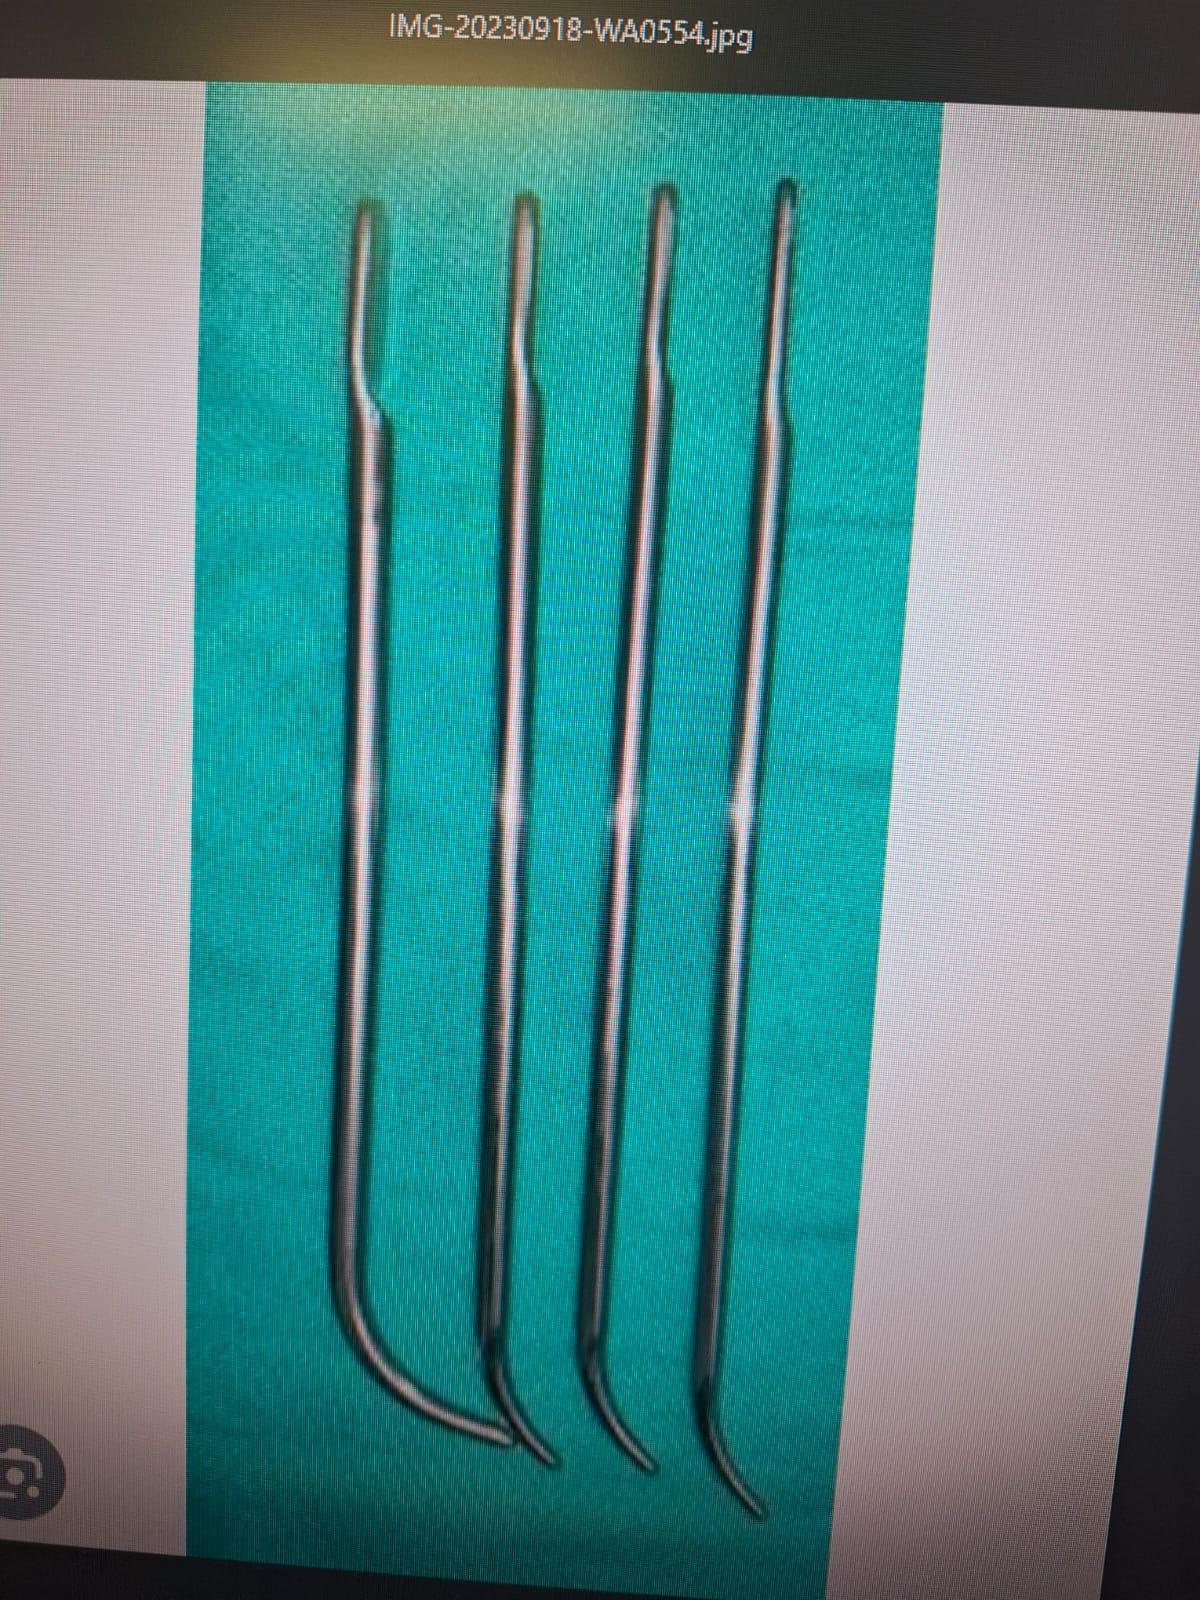Urethral Dilators: (292, 172, 518, 1472), (538, 175, 742, 1470), (672, 160, 838, 1522), (445, 185, 605, 1482)
